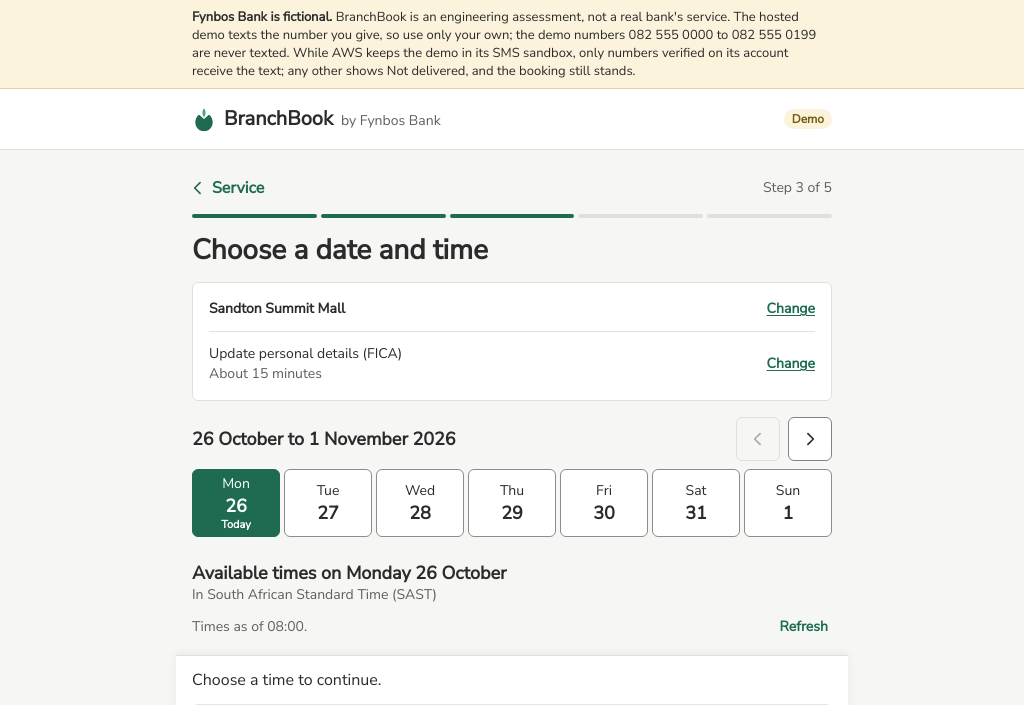
it: BookPage › Back names the previous step and returns to it, keeping the earlier choices
Click the link with aria-label "Back to service": (226, 188) [188,177,264,199]
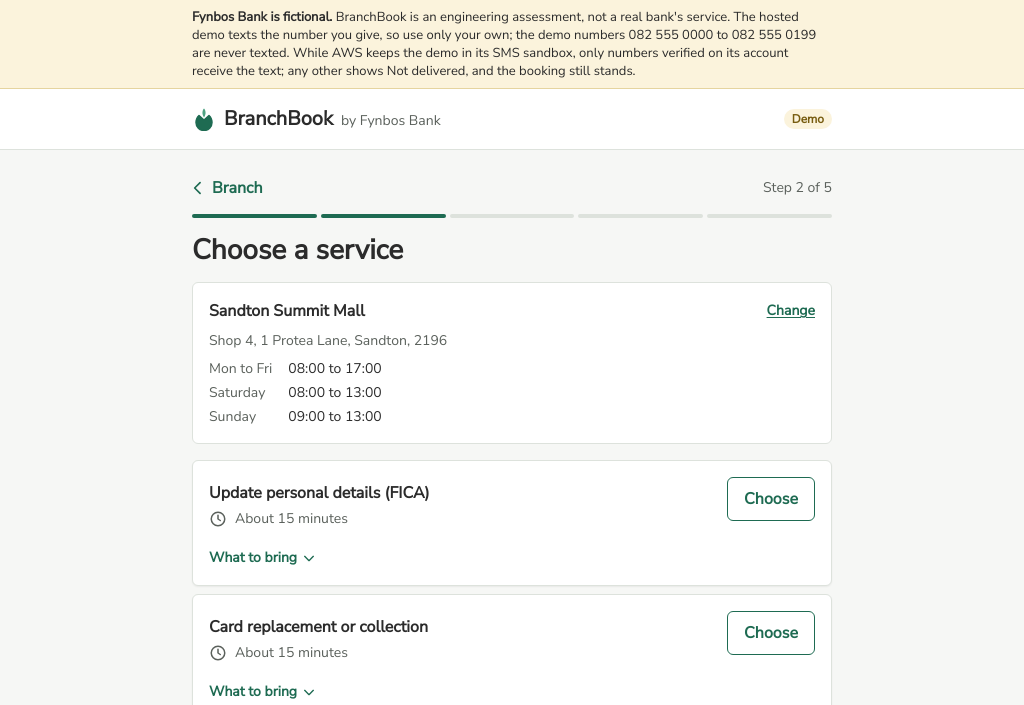
Expected: the heading "Choose a service" is shown, [192,231,403,269]
Click the link with aria-label "Back to branch": (225, 188) [188,177,262,199]
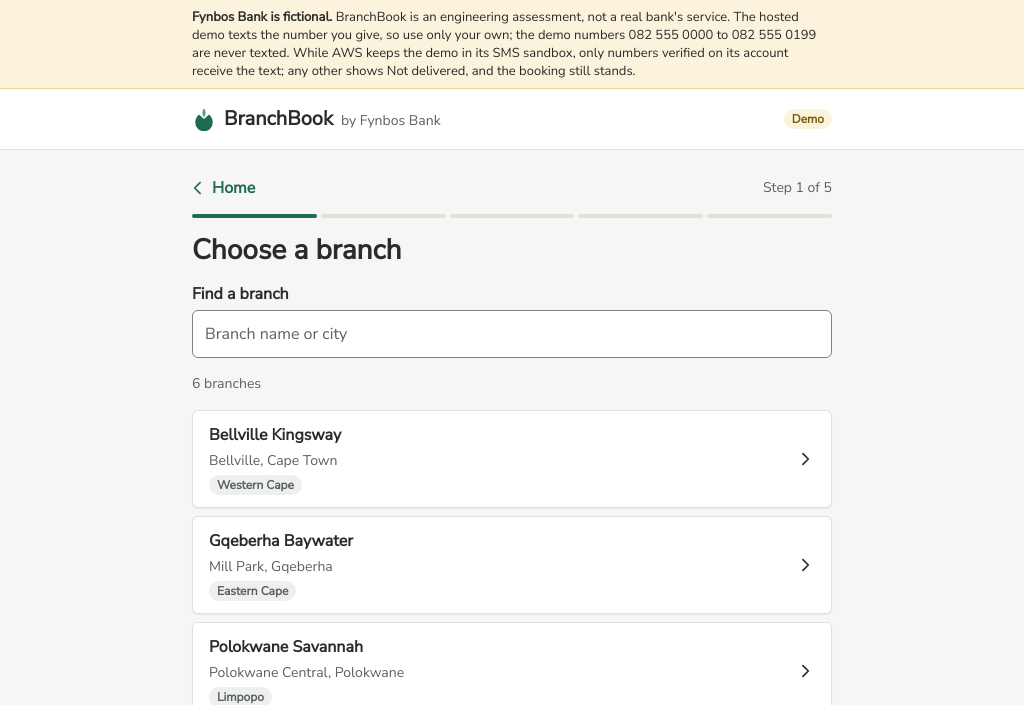
Expected: the heading "Choose a branch" is shown, [192,231,401,269]
